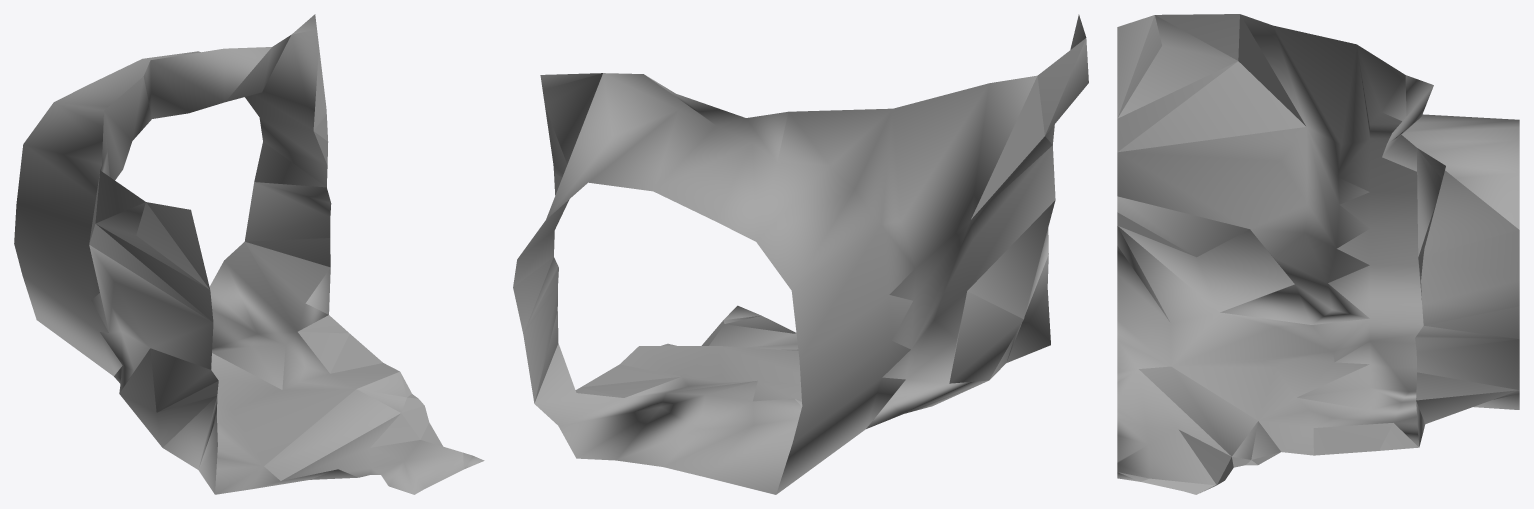
The model's file is CornerFloor1Replacer1.fbx.
3 views of the same model, side by side, from view 1: azimuth 30°, elevation 25°; view 2: azimuth 150°, elevation 25°; view 3: azimuth 270°, elevation 25° (orthographic). The views are drawn at different scales.
Parts seen in each view (by area): view 1: CornerFloor1Replacer1; view 2: CornerFloor1Replacer1; view 3: CornerFloor1Replacer1.
Part boxes in pixels (bbox=[...]): CornerFloor1Replacer1: bbox=[14, 14, 484, 494]; CornerFloor1Replacer1: bbox=[513, 14, 1088, 494]; CornerFloor1Replacer1: bbox=[1117, 14, 1519, 494].
Bounding box in the file's own units: 455 × 452 × 500.
